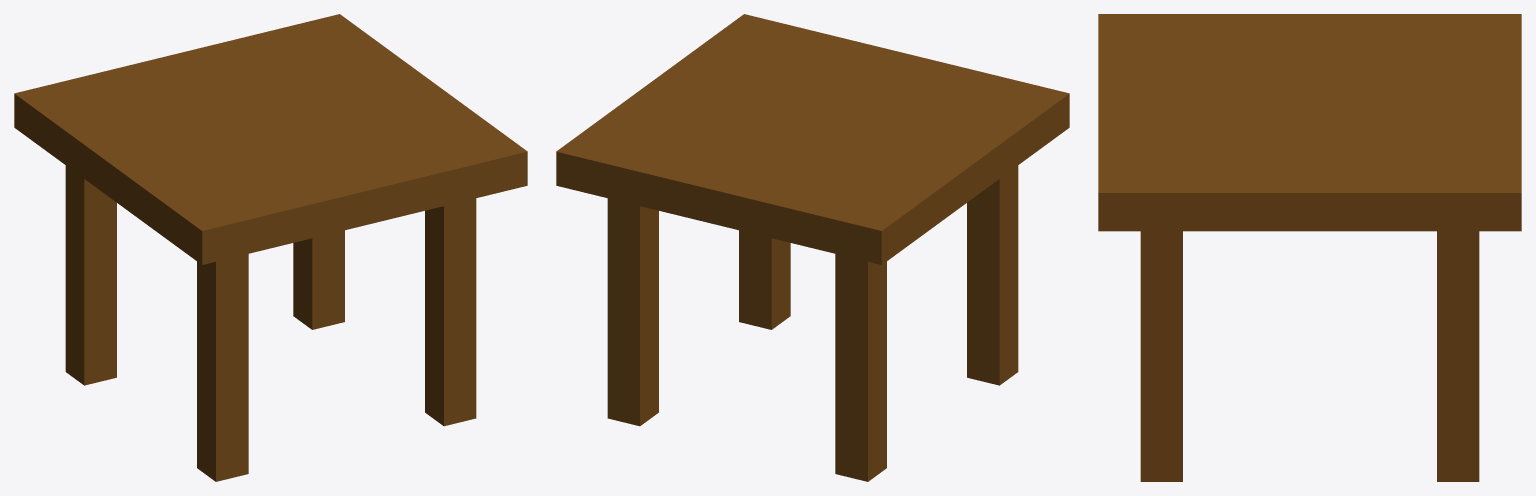
File: Patron_Table.fbx
3 views of the same model, side by side, from view 1: azimuth 30°, elevation 25°; view 2: azimuth 150°, elevation 25°; view 3: azimuth 270°, elevation 25° (orthographic). The views are drawn at different scales.
Parts seen in each view (by area): view 1: Patron_Table; view 2: Patron_Table; view 3: Patron_Table.
Part boxes in pixels (bbox=[...]): Patron_Table: bbox=[14, 14, 527, 481]; Patron_Table: bbox=[556, 14, 1069, 481]; Patron_Table: bbox=[1098, 14, 1521, 481].
Size of the model in its own units: 100 by 80 by 100.
